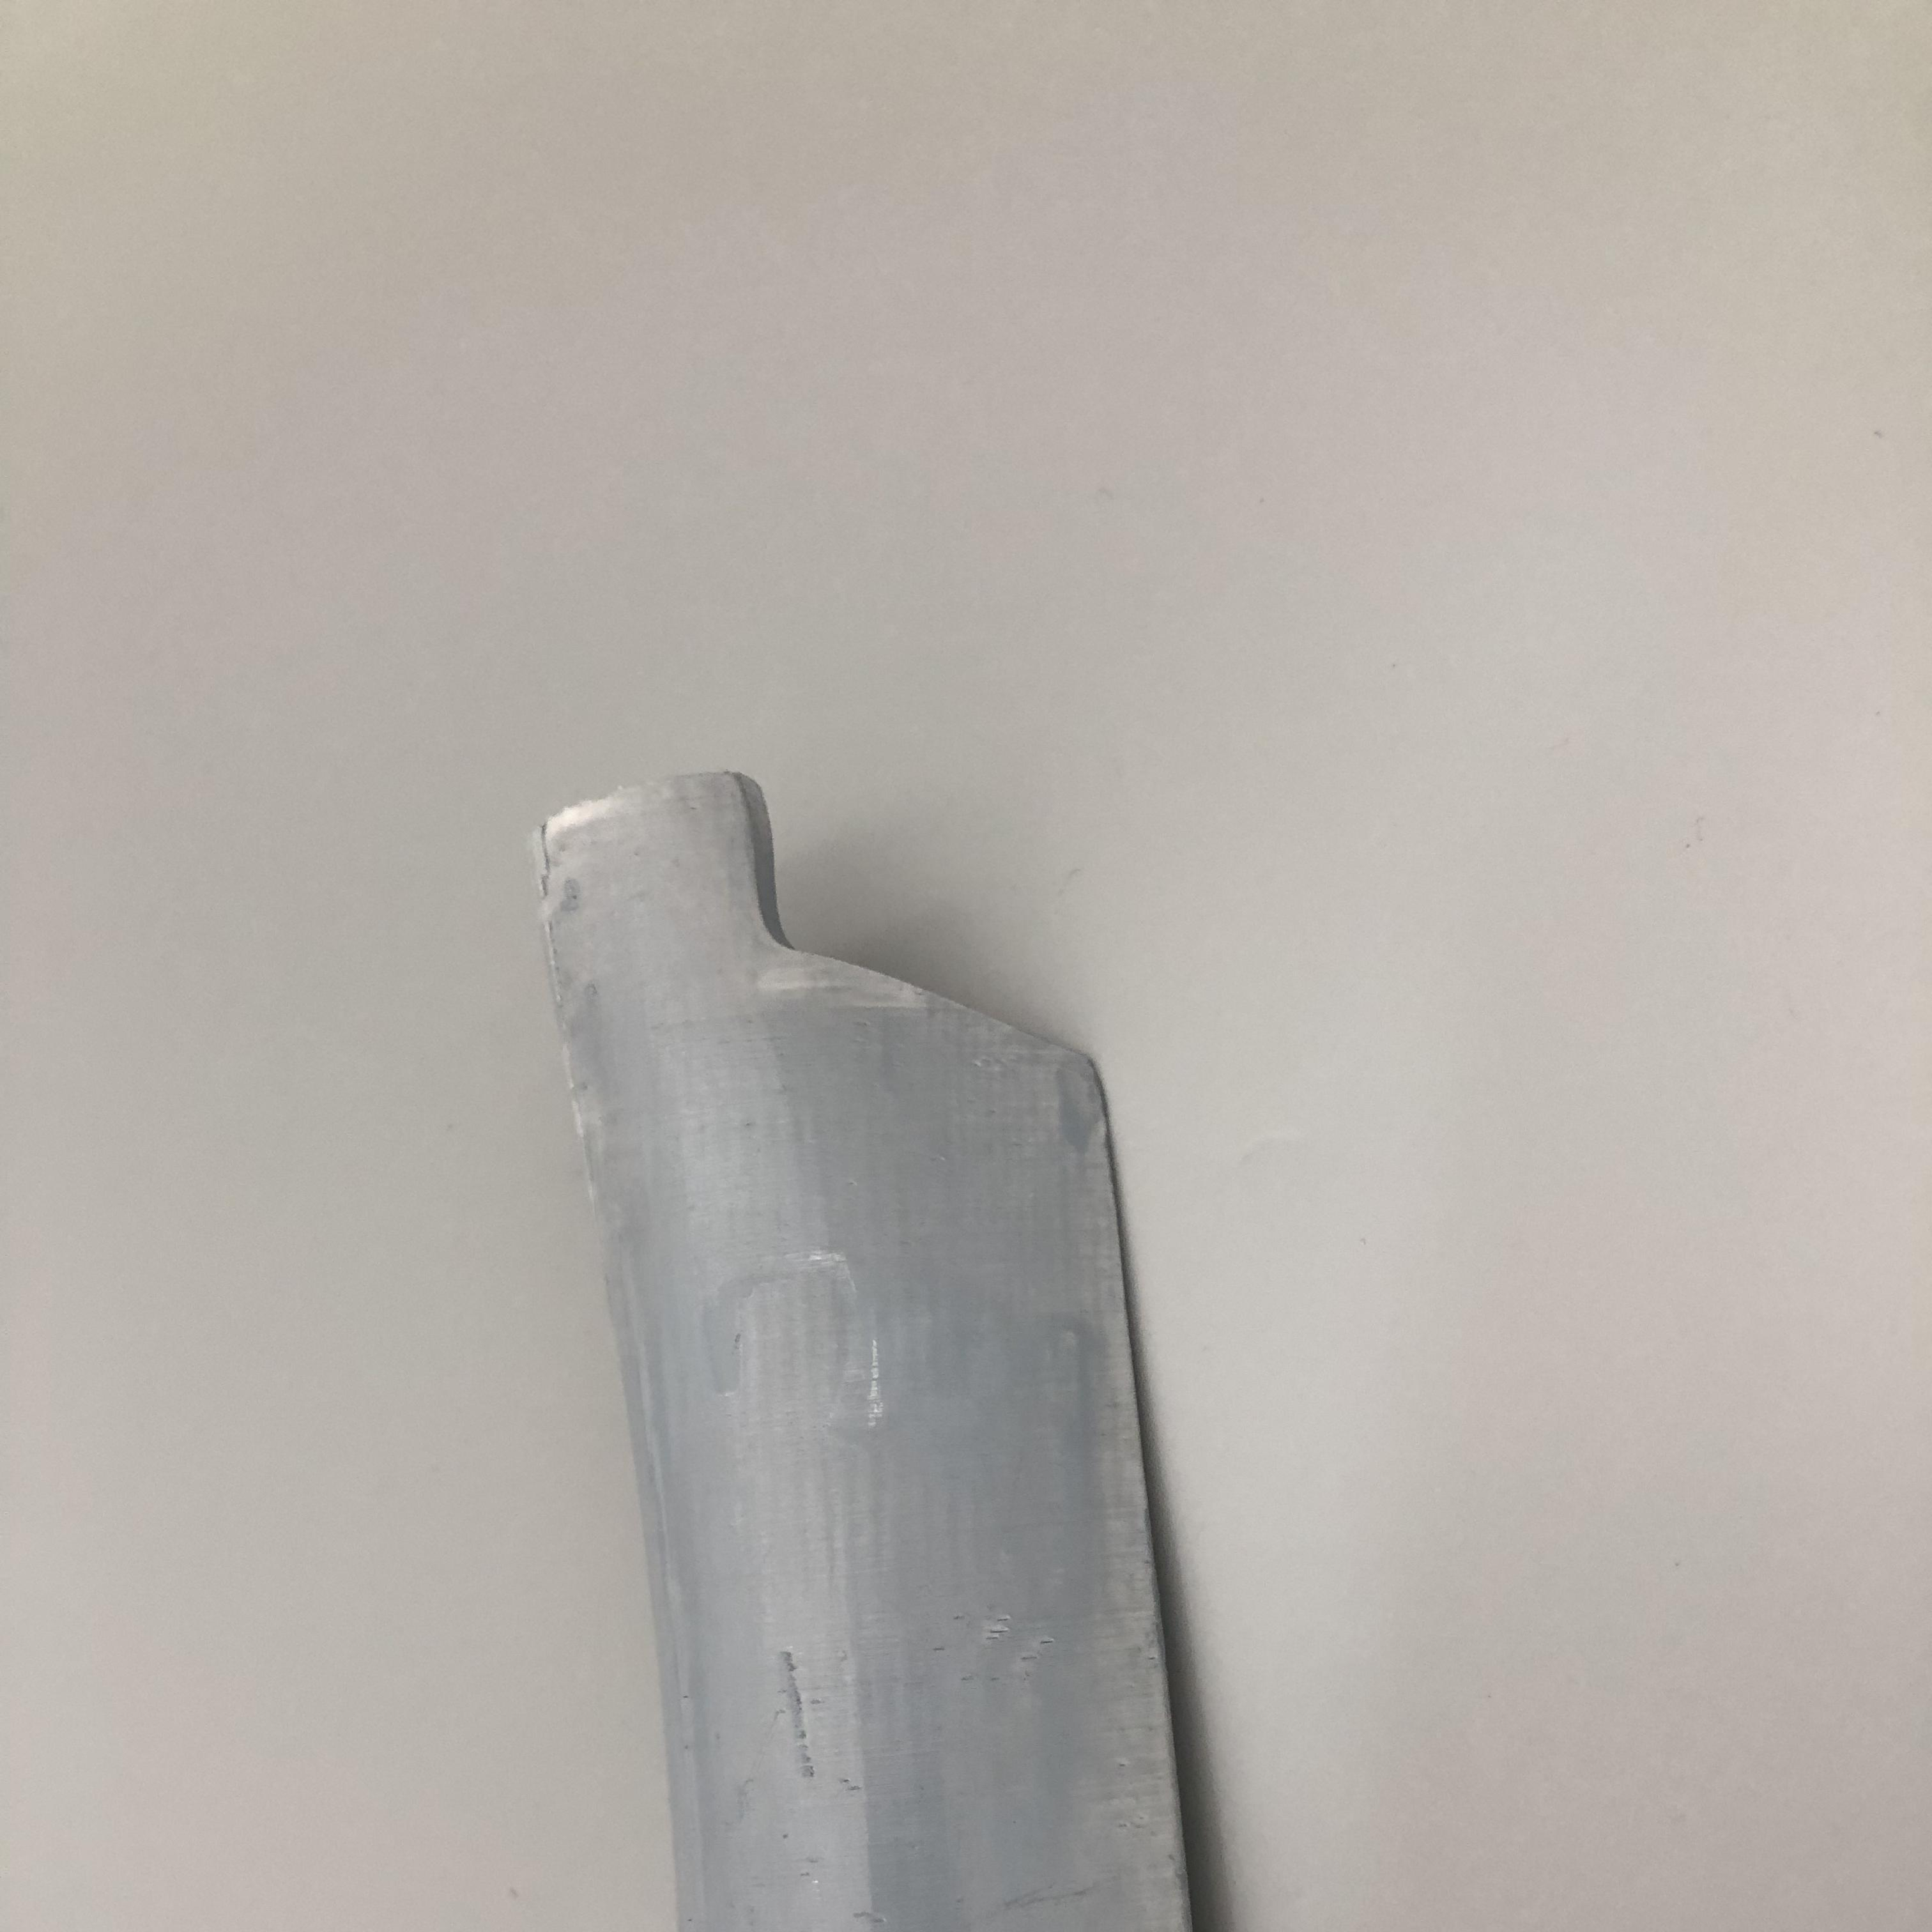fracture: (725, 782, 1058, 1079)
